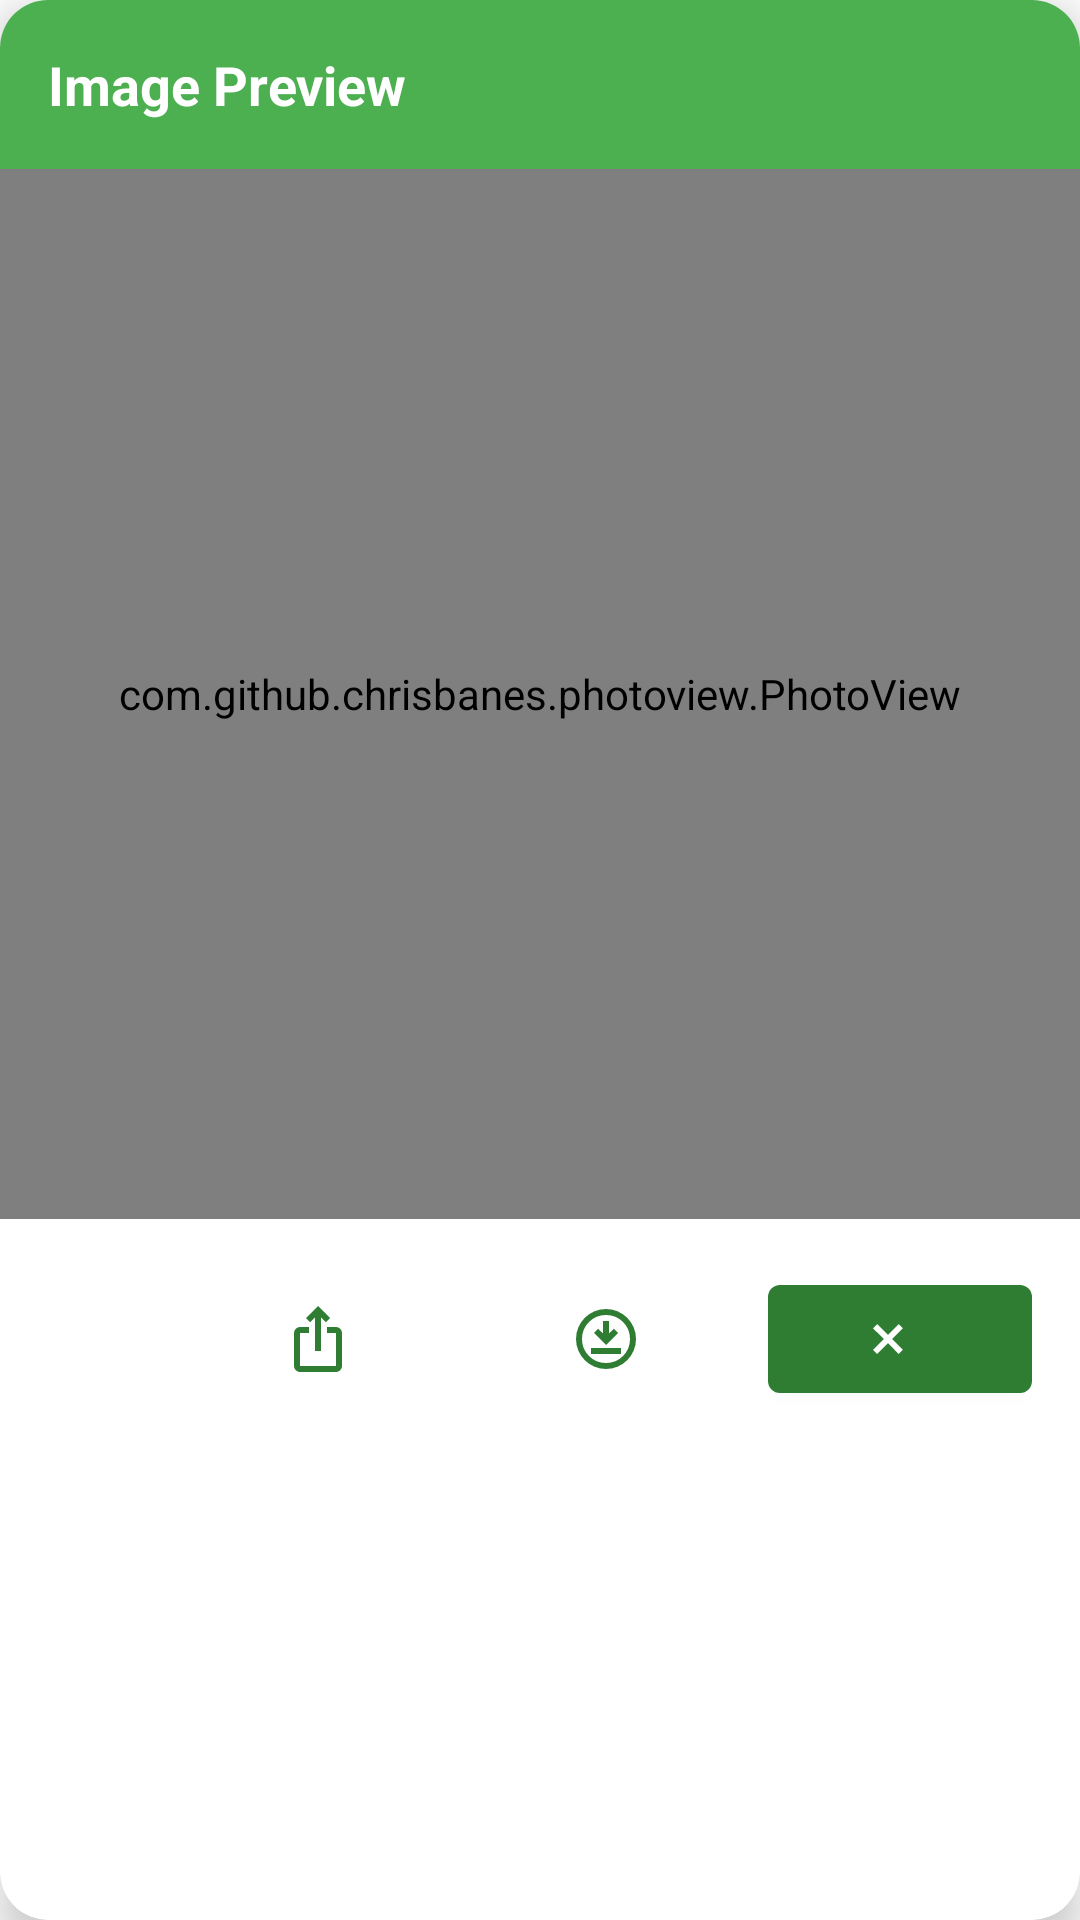

Icons on this 1080w x 1920h Android screen, each with its box as (x1, y1, x2, y2):
close: (768, 1285, 1032, 1393)
download: (576, 1309, 636, 1369)
share: (294, 1306, 342, 1372)
